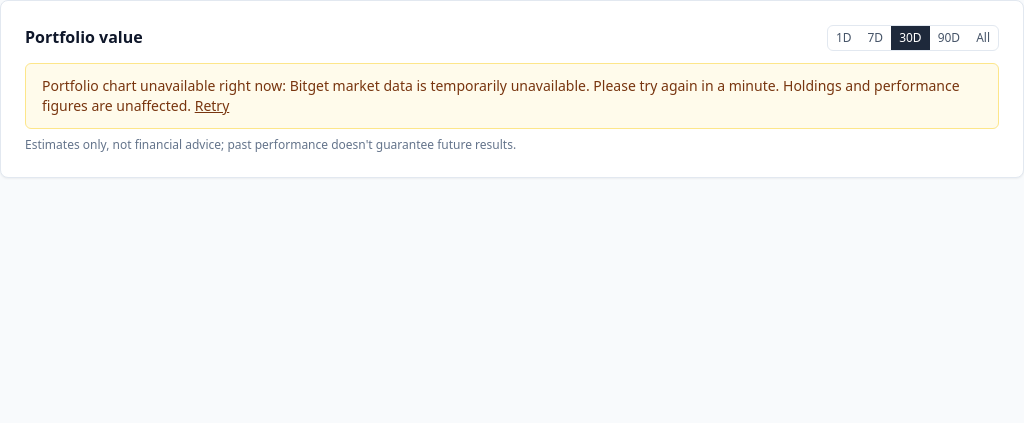
it: PortfolioChart › shows an unavailable state with retry when the endpoint fails, without an error alert
Expected: the message with test id "portfolio-unavailable" shows "temporarily unavailable", 290,76 -> 779,95
Click the button "Retry". click: (212, 106)
box: 195,96 -> 229,116
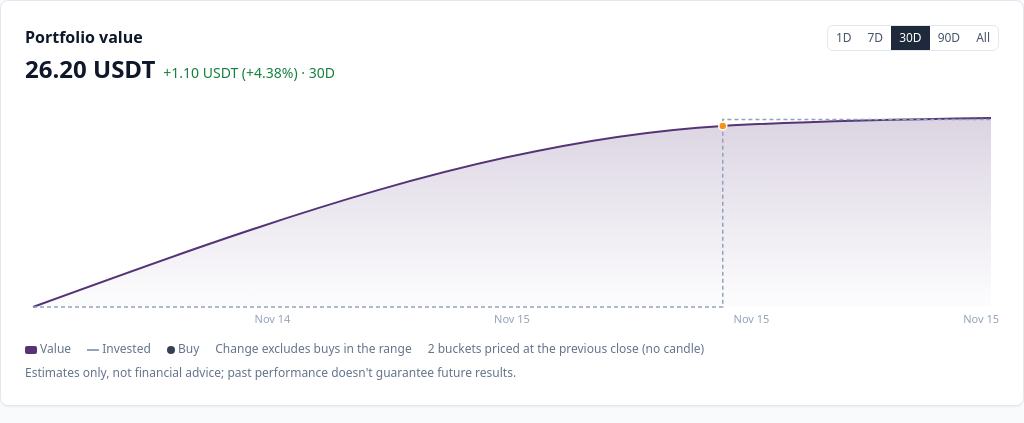
Expected: the text with test id "portfolio-current" reads "26.20 USDT", 25,52 -> 155,85
